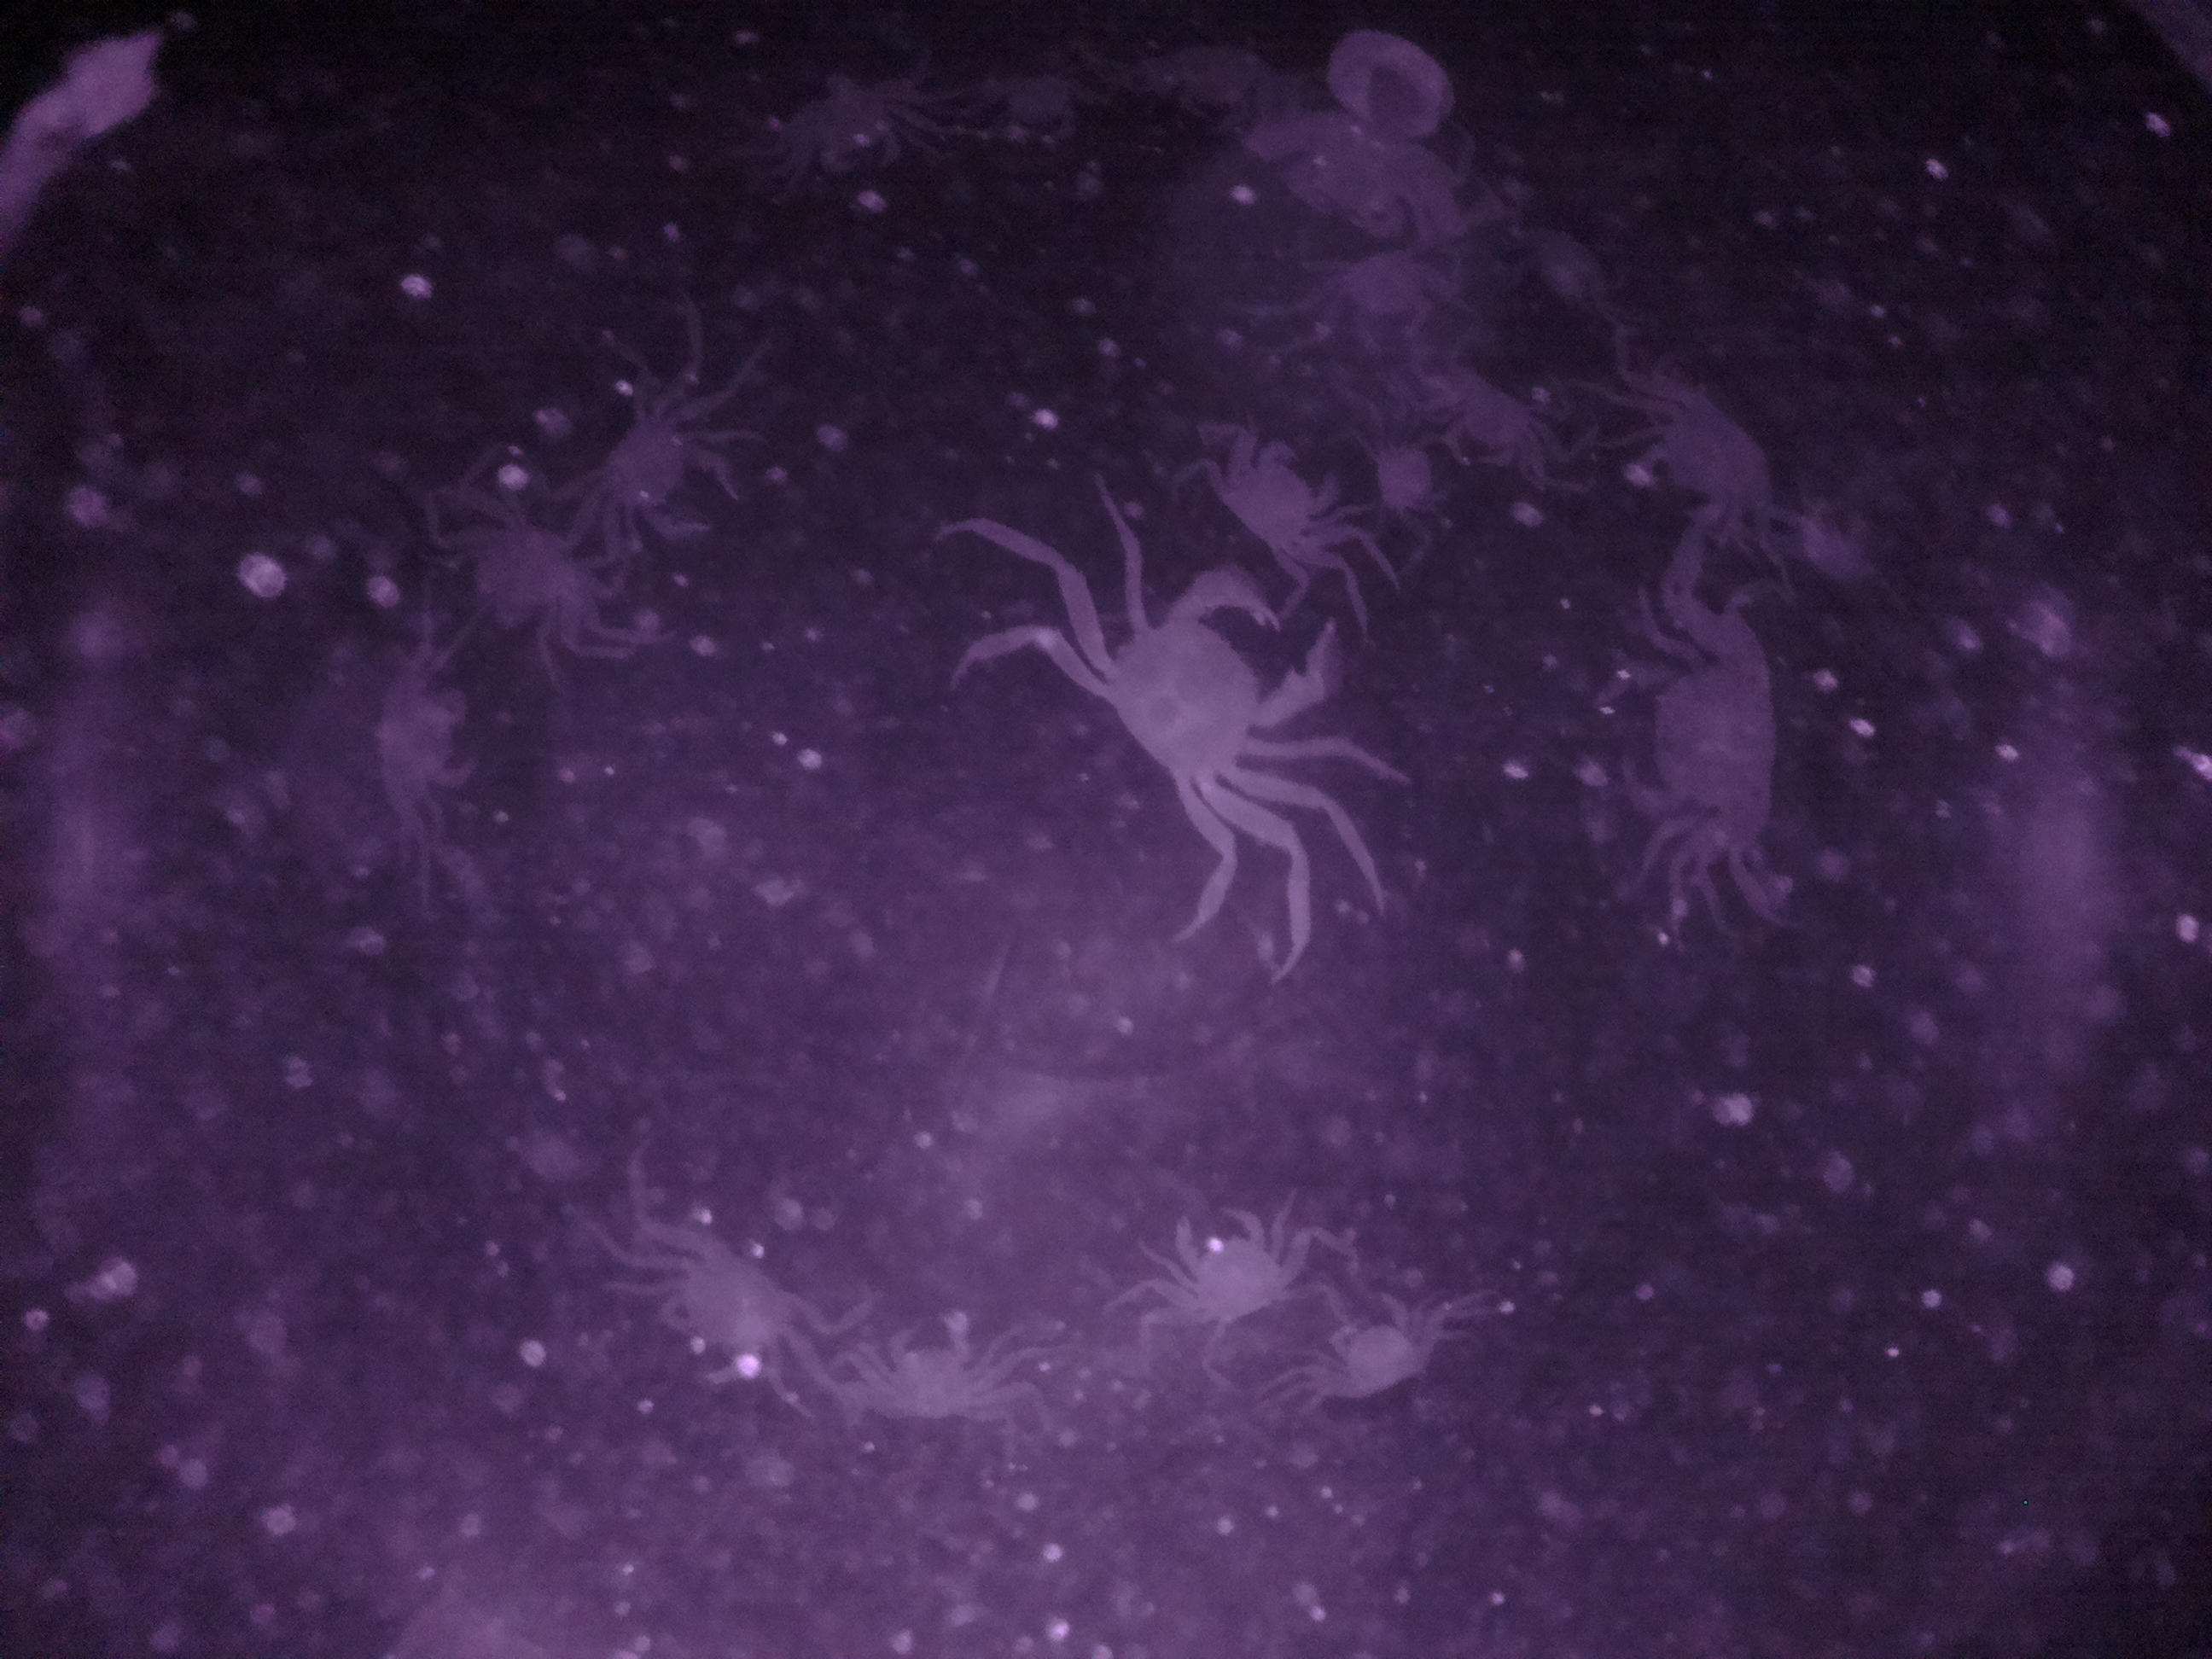Crab: (1054, 549, 1359, 838), (1595, 615, 1804, 875), (632, 1220, 824, 1401), (1181, 404, 1369, 577), (1625, 369, 1815, 538), (575, 394, 761, 559), (1280, 1277, 1480, 1422), (1148, 1195, 1318, 1356), (749, 64, 942, 185), (840, 1305, 1035, 1422), (1428, 357, 1573, 484)
